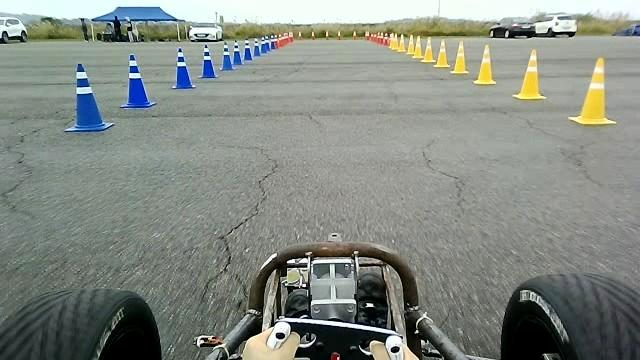blue cone: (64, 62, 114, 132), (119, 53, 156, 108), (171, 47, 195, 89), (198, 43, 218, 78), (219, 41, 234, 70), (232, 39, 243, 65), (243, 38, 252, 60), (252, 37, 261, 56)
yellow cone: (568, 56, 616, 125), (512, 48, 546, 100), (473, 43, 496, 84), (450, 39, 468, 74), (433, 38, 449, 67), (420, 36, 435, 62), (411, 35, 423, 58), (406, 34, 415, 55), (388, 32, 398, 50), (397, 33, 406, 52)
